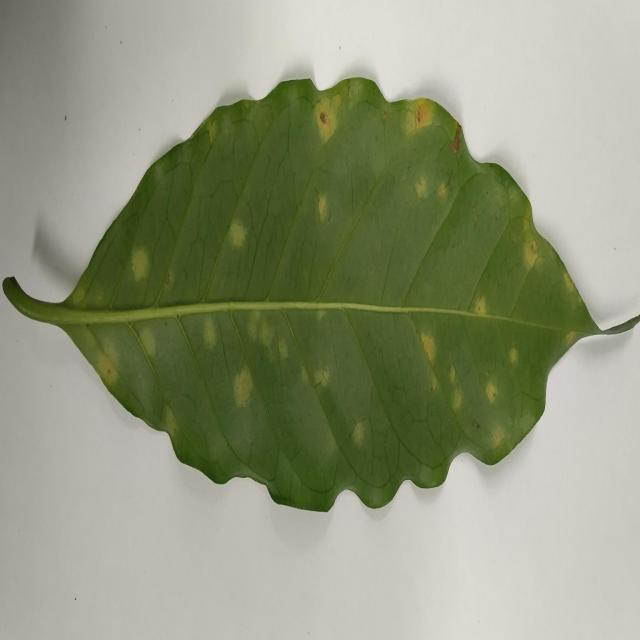Enfermedad-Roya: (2, 77, 636, 516)
